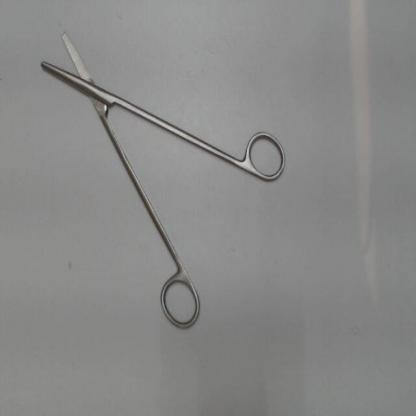9 Metzenbaum Scissors: (35, 20, 292, 337)
